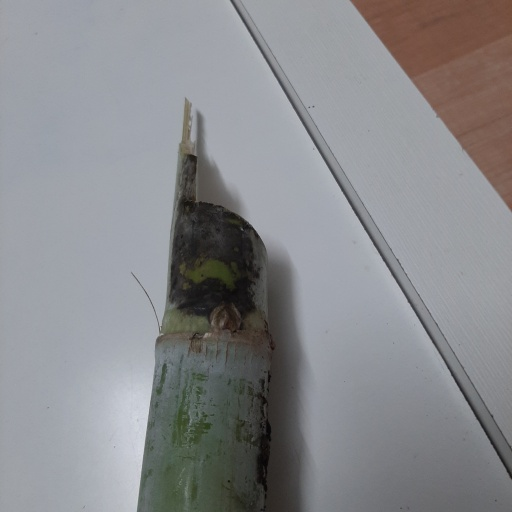Bud: (208, 300, 241, 332)
